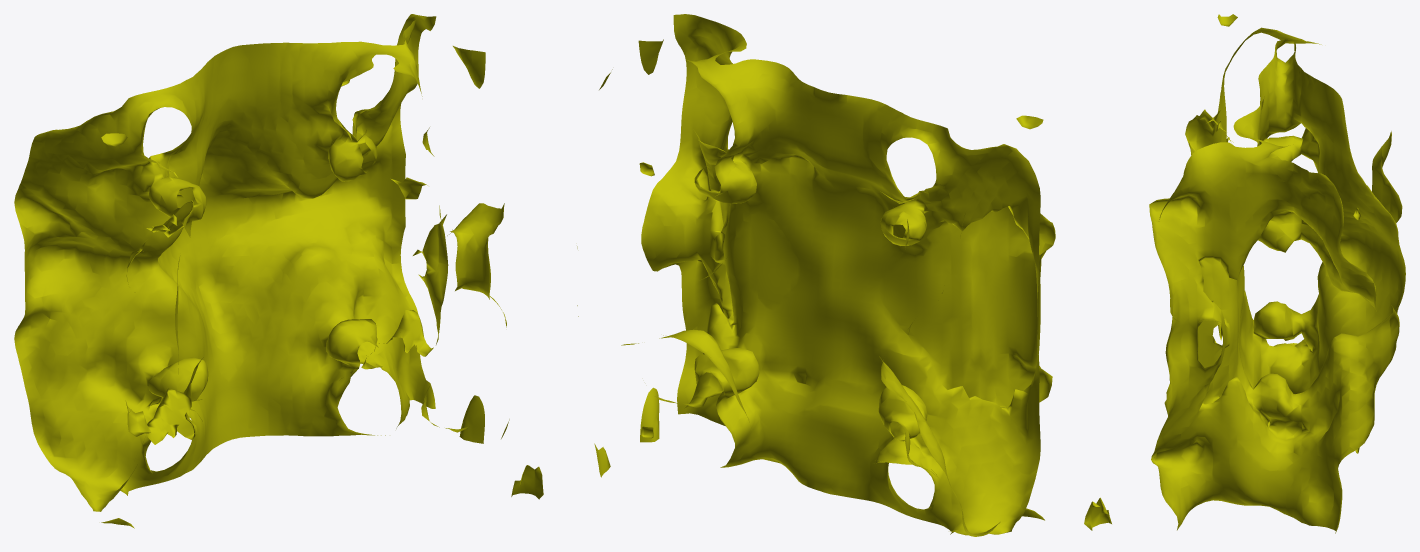
The picture shows the model from 3 angles, left to right: view 1: azimuth 30°, elevation 25°; view 2: azimuth 150°, elevation 25°; view 3: azimuth 270°, elevation 25°; orthographic projection. The views are drawn at different scales.
Visible parts, largest first — view 1: world; view 2: world; view 3: world.
Boxes of the visible parts, x1,y1,x2,y2 form: world: (14,14,543,528); world: (577,14,1055,536); world: (1084,14,1405,533).
Bounding box in the file's own units: 49 × 49 × 39.99.
